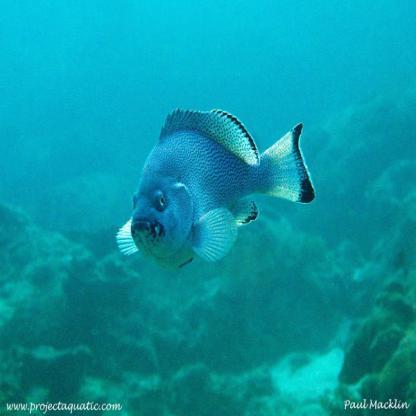Bio: (112, 105, 320, 273)
